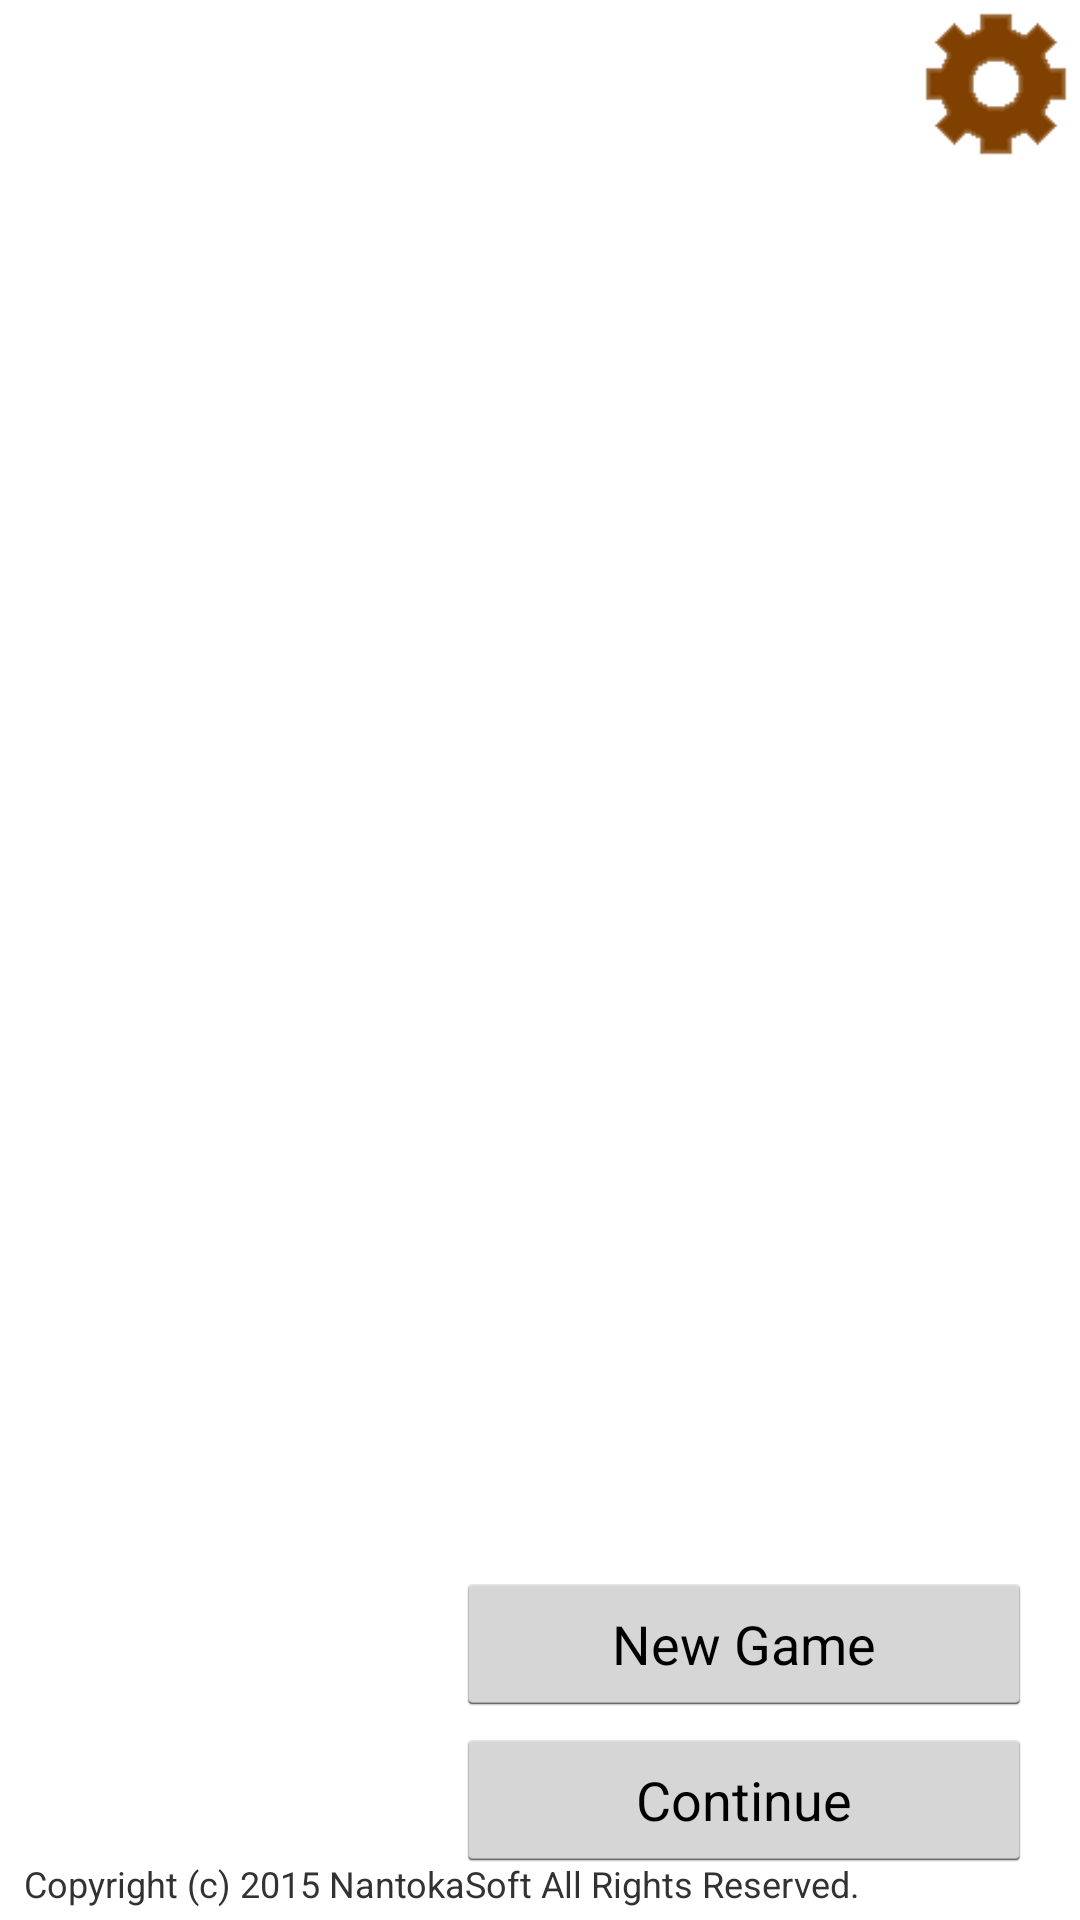

Icons on this 1080×1920 Android screen, each with the point to tap as (x,y):
setting: (996,84)
